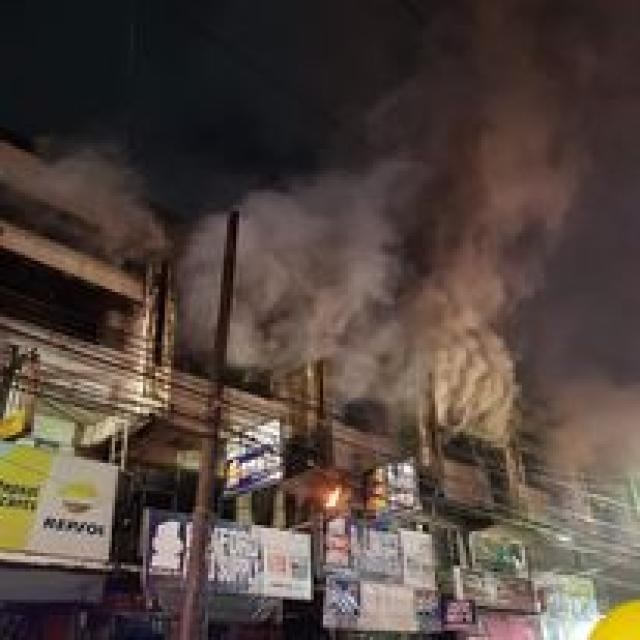Fire: (318, 485, 346, 513)
Smoke: (182, 0, 584, 437)
